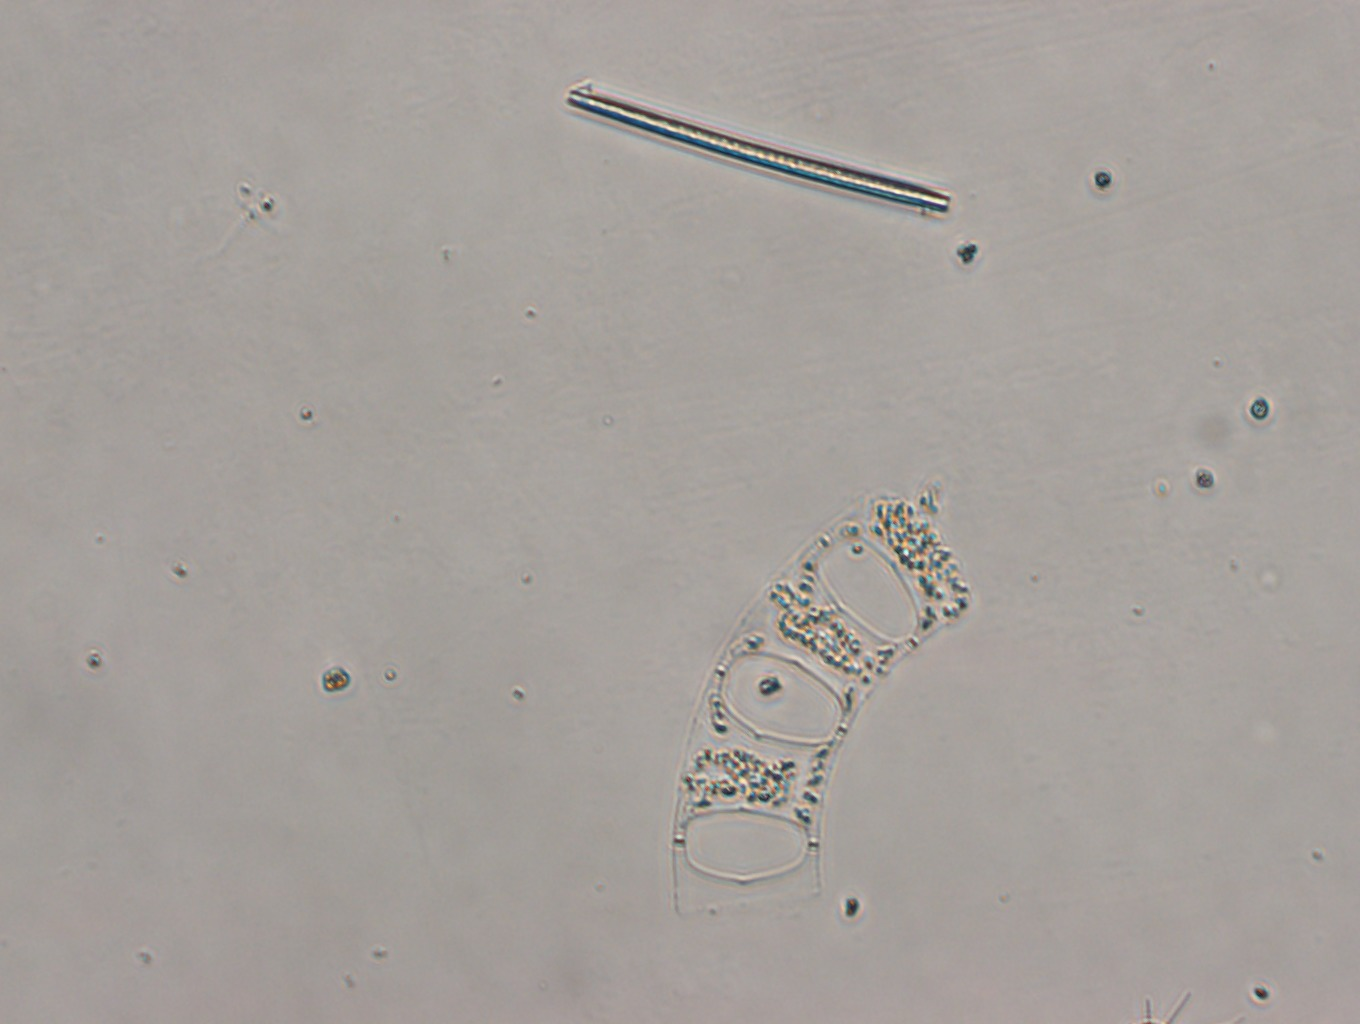eucampia: (668, 474, 976, 925)
thalassionema frauenfeldii: (564, 85, 953, 217)
